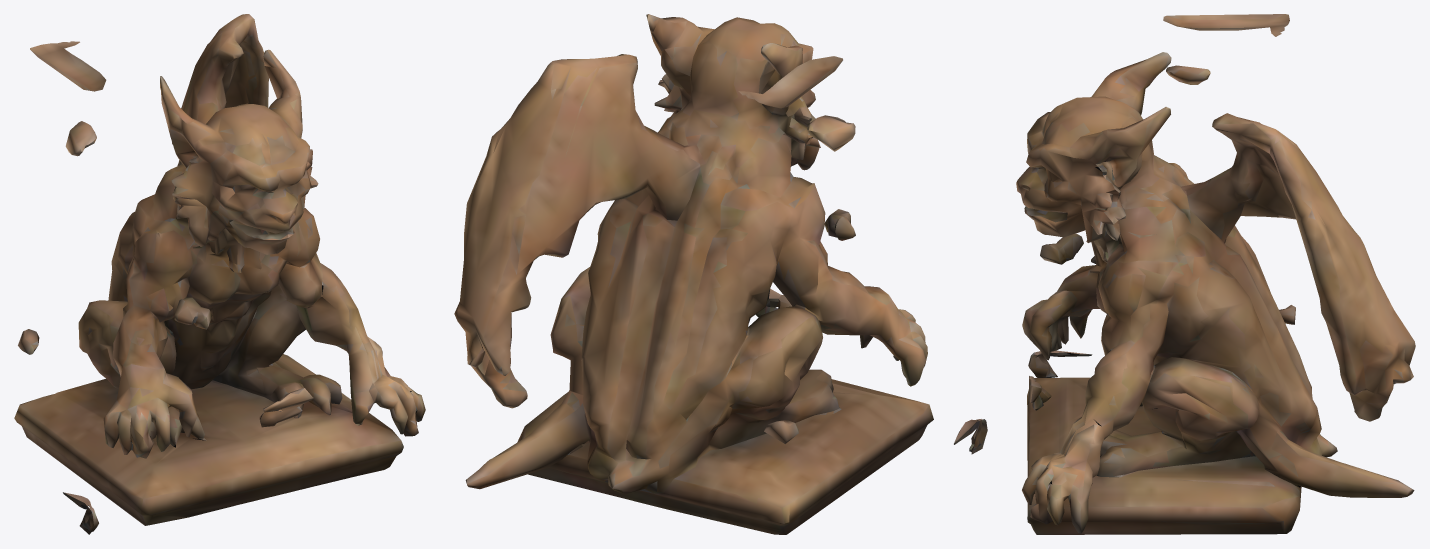
The model's file is weathered-sandstone-gargoyle-v001.glb.
The picture shows the model from 3 angles, left to right: view 1: azimuth 30°, elevation 25°; view 2: azimuth 150°, elevation 25°; view 3: azimuth 270°, elevation 25°; orthographic projection. The views are drawn at different scales.
Parts seen in each view (by area): view 1: weathered-sandstone-gargoyle; view 2: weathered-sandstone-gargoyle; view 3: weathered-sandstone-gargoyle.
Part boxes in pixels (x1,y1,x2,y2): weathered-sandstone-gargoyle: (14, 14, 425, 534); weathered-sandstone-gargoyle: (454, 14, 987, 534); weathered-sandstone-gargoyle: (1016, 14, 1415, 534).
Bounding box in the file's own units: 0.8952 × 0.9692 × 0.8707.
1 material, 1 textured.
